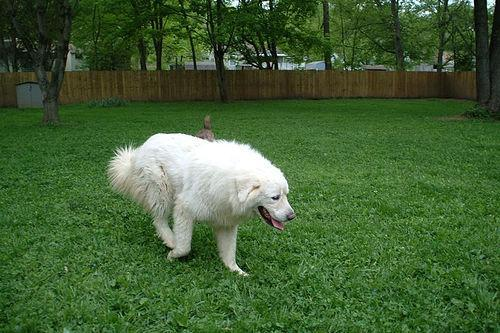Great_Pyrenees: (106, 131, 296, 277)
